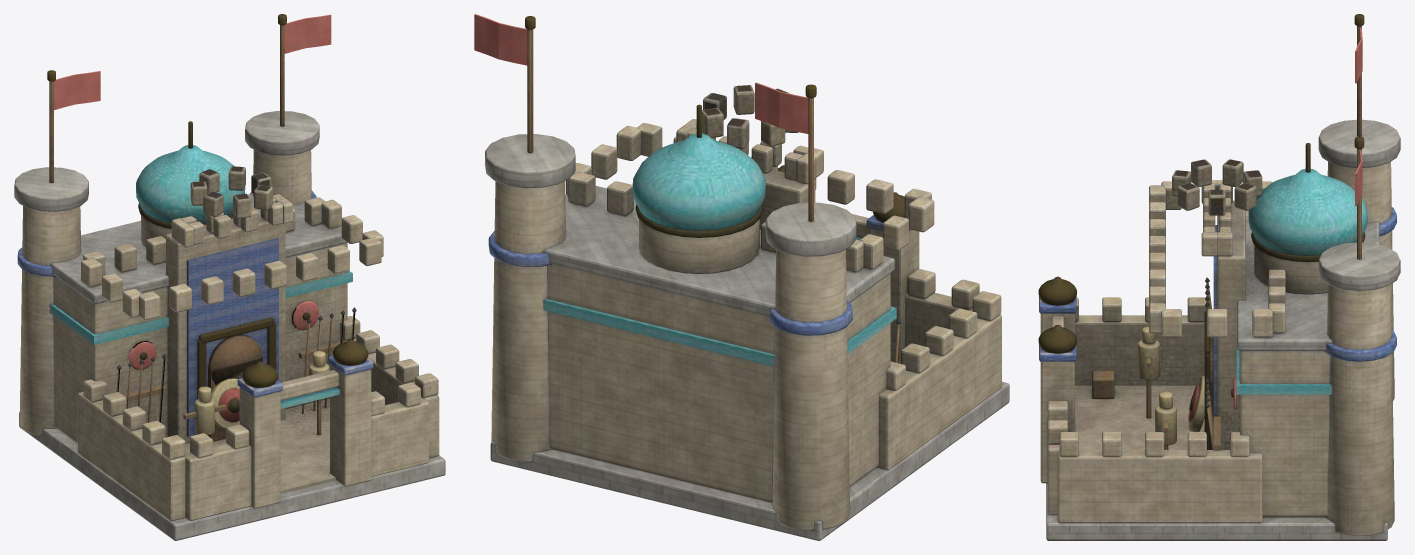
The model's file is barracks_turan.glb.
The picture shows the model from 3 angles, left to right: view 1: azimuth 30°, elevation 25°; view 2: azimuth 150°, elevation 25°; view 3: azimuth 270°, elevation 25°; orthographic projection. The views are drawn at different scales.
Visible parts, largest first — view 1: barracks_turan; view 2: barracks_turan; view 3: barracks_turan.
Part boxes in pixels (x1,y1,x2,y2): barracks_turan: (14,14,445,540); barracks_turan: (474,14,1009,540); barracks_turan: (1038,14,1400,540).
Size of the model in its own units: 6.87 by 7.62 by 6.36.
Materials: 1 (1 with a texture image).
